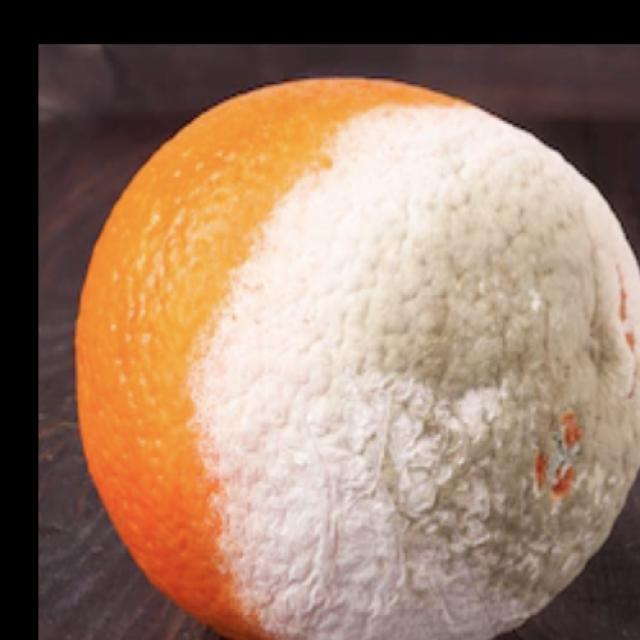sangat-busuk: (76, 79, 639, 639)
